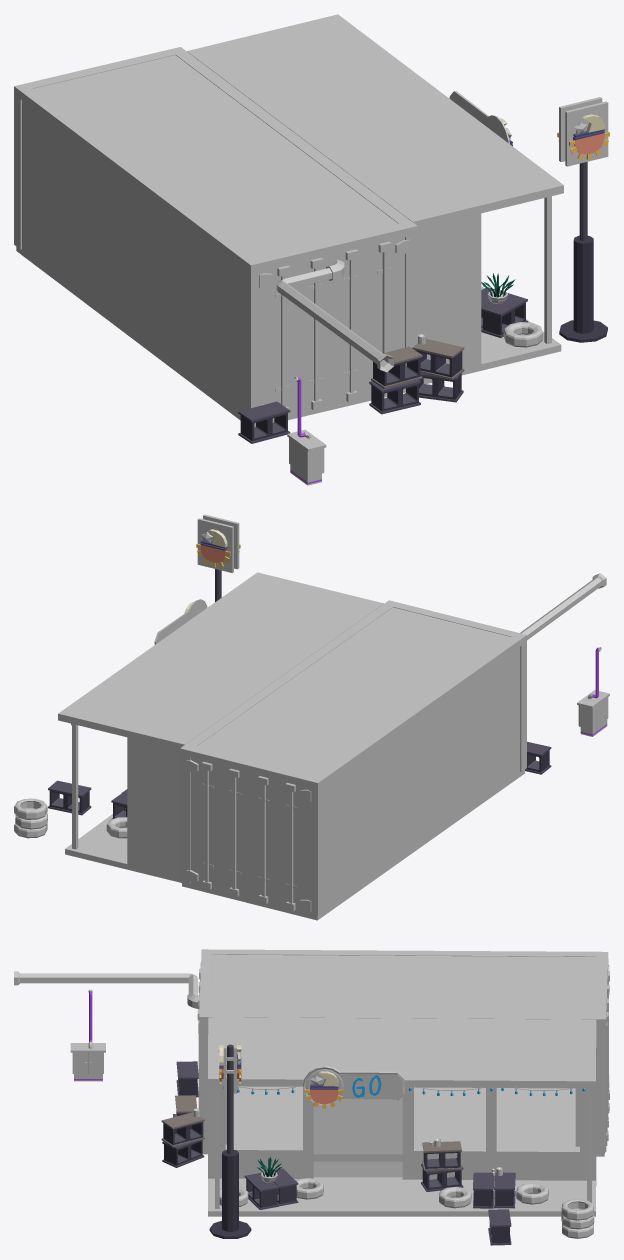
The model's file is CMDayNiteGo.fbx.
3 renders of one model, top to bottom at view 1: azimuth 30°, elevation 25°; view 2: azimuth 150°, elevation 25°; view 3: azimuth 270°, elevation 25°, orthographic. The views are drawn at different scales.
Visible parts, largest first — view 1: BoxCrate.040, BoxCrate.005, WaterTank.015, Pipes.008, Sign.Top.003, AP_Cinderblock_New.073, JuiceBox.002, AP_Cinderblock_New.063, AP_Cinderblock_New.070, AP_Cinderblock_New.072, AP_Cinderblock_New.071, AP_Cinderblock_New.069 (+3 smaller); view 2: BoxCrate.040, BoxCrate.005, Sign.Top.003, Tirestack.017, JuiceBox.002, Pipes.008, AP_Cinderblock_New.067, AP_Cinderblock_New.073, StreetHole.004, DayNiteSign.003; view 3: BoxCrate.005, BoxCrate.040, BoxCrate.191, BoxCrate.192, WaterTank.015, Pipes.008, StreetHole.004, AP_Cinderblock_New.063, AP_Cinderblock_New.068, Tirestack.017, AP_Cinderblock_New.070, AP_Cinderblock_New.066 (+12 smaller).
Part boxes in pixels (bbox=[...]): BoxCrate.040: bbox=[14, 47, 417, 427]; BoxCrate.005: bbox=[187, 14, 563, 383]; WaterTank.015: bbox=[559, 162, 607, 342]; Pipes.008: bbox=[276, 259, 393, 372]; Sign.Top.003: bbox=[559, 97, 608, 166]; AP_Cinderblock_New.073: bbox=[238, 401, 290, 443]; JuiceBox.002: bbox=[287, 429, 326, 485]; AP_Cinderblock_New.063: bbox=[481, 287, 527, 337]; AP_Cinderblock_New.070: bbox=[412, 339, 464, 380]; AP_Cinderblock_New.072: bbox=[371, 346, 422, 388]; AP_Cinderblock_New.071: bbox=[369, 380, 420, 414]; AP_Cinderblock_New.069: bbox=[419, 373, 463, 402]; BoxCrate.040: bbox=[180, 600, 526, 920]; BoxCrate.005: bbox=[58, 572, 383, 882]; Sign.Top.003: bbox=[197, 514, 239, 572]; Tirestack.017: bbox=[14, 798, 47, 838]; JuiceBox.002: bbox=[577, 690, 609, 736]; Pipes.008: bbox=[520, 573, 606, 640]; AP_Cinderblock_New.067: bbox=[48, 780, 91, 815]; AP_Cinderblock_New.073: bbox=[525, 741, 551, 774]; StreetHole.004: bbox=[154, 599, 207, 644]; DayNiteSign.003: bbox=[196, 543, 230, 567]; BoxCrate.005: bbox=[208, 1017, 596, 1216]; BoxCrate.040: bbox=[197, 949, 609, 1156]; BoxCrate.191: bbox=[358, 1097, 402, 1177]; BoxCrate.192: bbox=[313, 1101, 358, 1177]; WaterTank.015: bbox=[209, 1044, 251, 1238]; Pipes.008: bbox=[14, 971, 199, 1009]; StreetHole.004: bbox=[303, 1066, 404, 1105]; AP_Cinderblock_New.063: bbox=[244, 1168, 298, 1209]; AP_Cinderblock_New.068: bbox=[473, 1172, 515, 1208]; Tirestack.017: bbox=[561, 1199, 594, 1238]; AP_Cinderblock_New.070: bbox=[161, 1112, 204, 1147]; AP_Cinderblock_New.066: bbox=[422, 1141, 461, 1170].
Size of the model in its own units: 2350 by 1256 by 3551.
